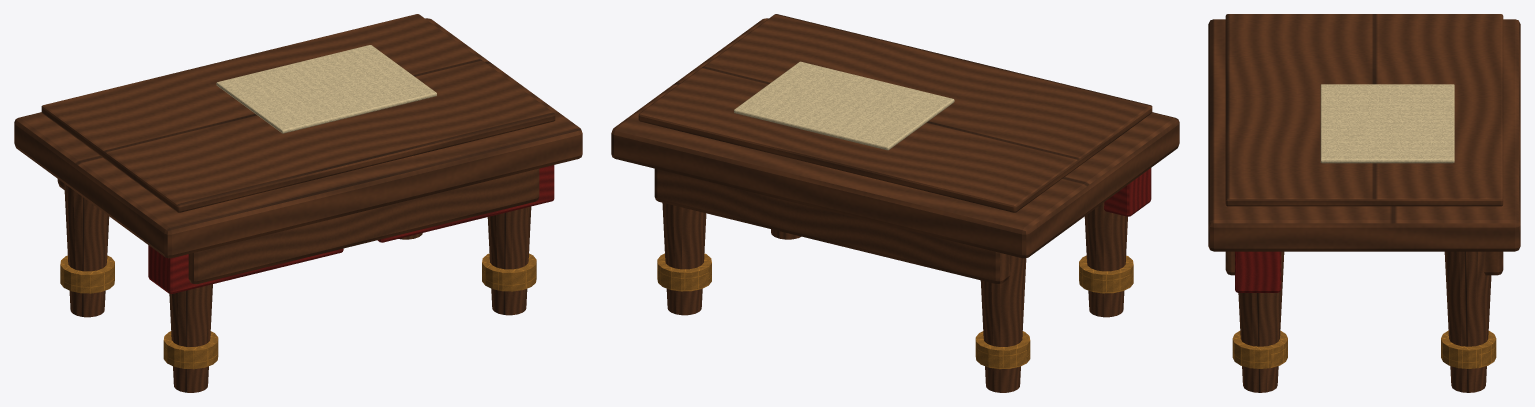
File: writing_desk.glb
3 renders of one model, left to right at view 1: azimuth 30°, elevation 25°; view 2: azimuth 150°, elevation 25°; view 3: azimuth 270°, elevation 25°, orthographic.
Parts seen in each view (by area): view 1: writing_desk_Walnut, writing_desk_Paper, writing_desk_Brass, writing_desk_Lacquer; view 2: writing_desk_Walnut, writing_desk_Paper, writing_desk_Brass, writing_desk_Lacquer; view 3: writing_desk_Walnut, writing_desk_Paper, writing_desk_Brass, writing_desk_Lacquer.
Part boxes in pixels (x1=…): writing_desk_Walnut: x1=14, y1=14, x2=582, y2=392; writing_desk_Paper: x1=216, y1=45, x2=436, y2=133; writing_desk_Brass: x1=60, y1=253, x2=536, y2=369; writing_desk_Lacquer: x1=148, y1=165, x2=554, y2=293; writing_desk_Walnut: x1=611, y1=14, x2=1179, y2=392; writing_desk_Paper: x1=734, y1=61, x2=954, y2=150; writing_desk_Brass: x1=657, y1=253, x2=1133, y2=369; writing_desk_Lacquer: x1=1104, y1=168, x2=1151, y2=216; writing_desk_Walnut: x1=1208, y1=14, x2=1520, y2=392; writing_desk_Paper: x1=1320, y1=84, x2=1454, y2=163; writing_desk_Brass: x1=1232, y1=330, x2=1496, y2=368; writing_desk_Lacquer: x1=1235, y1=251, x2=1281, y2=292.
Bounding box in the file's own units: 2.1 × 0.978 × 1.35.
4 materials, 4 textured.
